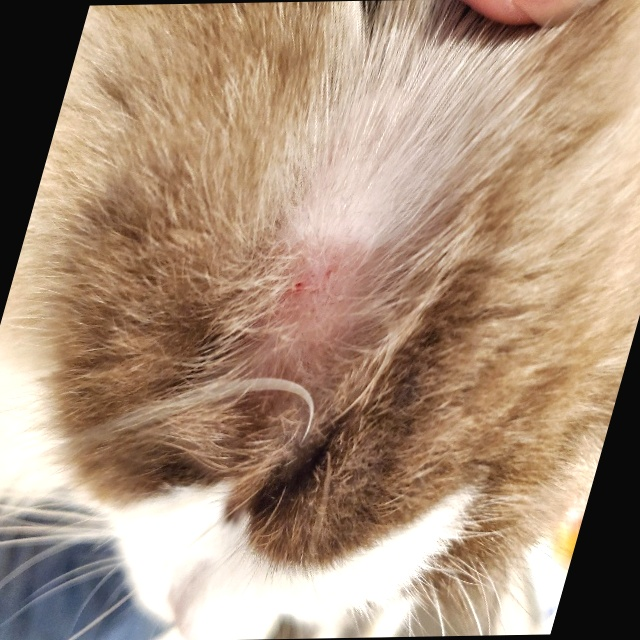ringworm: (252, 240, 421, 354)
